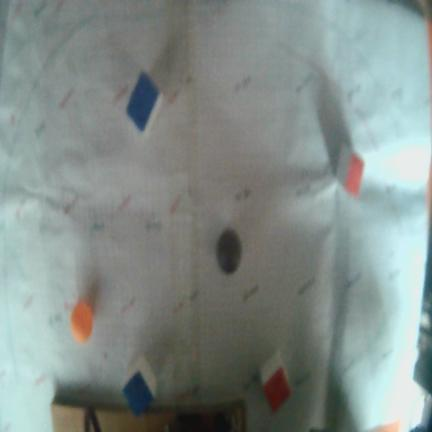circle_blue: (216, 228, 242, 274)
circle_orange: (71, 300, 93, 343)
rectangle_blue: (128, 73, 160, 132)
rectangle_orange: (345, 151, 363, 199)
square_blue: (122, 370, 153, 417)
square_orange: (264, 365, 289, 410)
